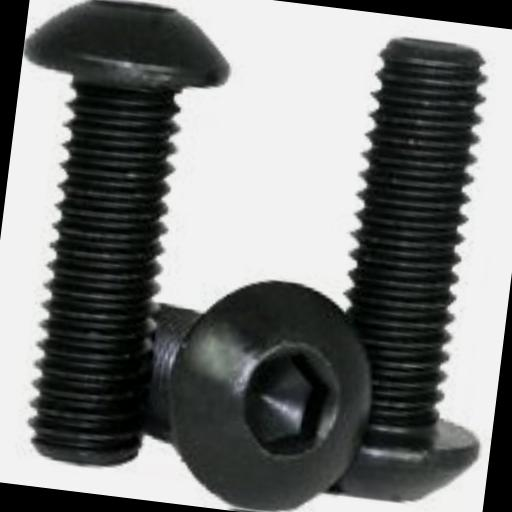Hex-Allen: (158, 269, 383, 512)
